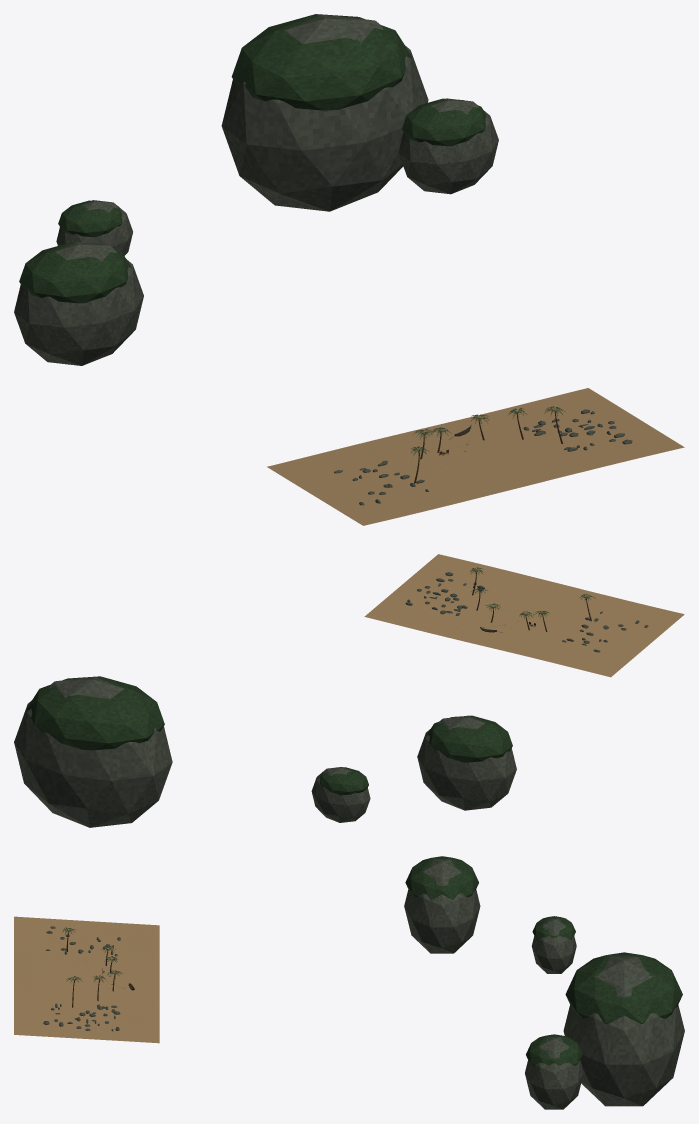
File: phuket_coast.glb
3 renders of one model, top to bottom at view 1: azimuth 30°, elevation 25°; view 2: azimuth 150°, elevation 25°; view 3: azimuth 270°, elevation 25°, orthographic. The views are drawn at different scales.
Visible parts, largest first — view 1: phuket_coast_Landscape; view 2: phuket_coast_Landscape; view 3: phuket_coast_Landscape.
Boxes of the visible parts, x1=… form: phuket_coast_Landscape: x1=14, y1=14, x2=684, y2=525; phuket_coast_Landscape: x1=14, y1=554, x2=684, y2=827; phuket_coast_Landscape: x1=14, y1=856, x2=684, y2=1109.
Size of the model in its own units: 170 by 56 by 240.
Materials: 11 (11 with a texture image).
